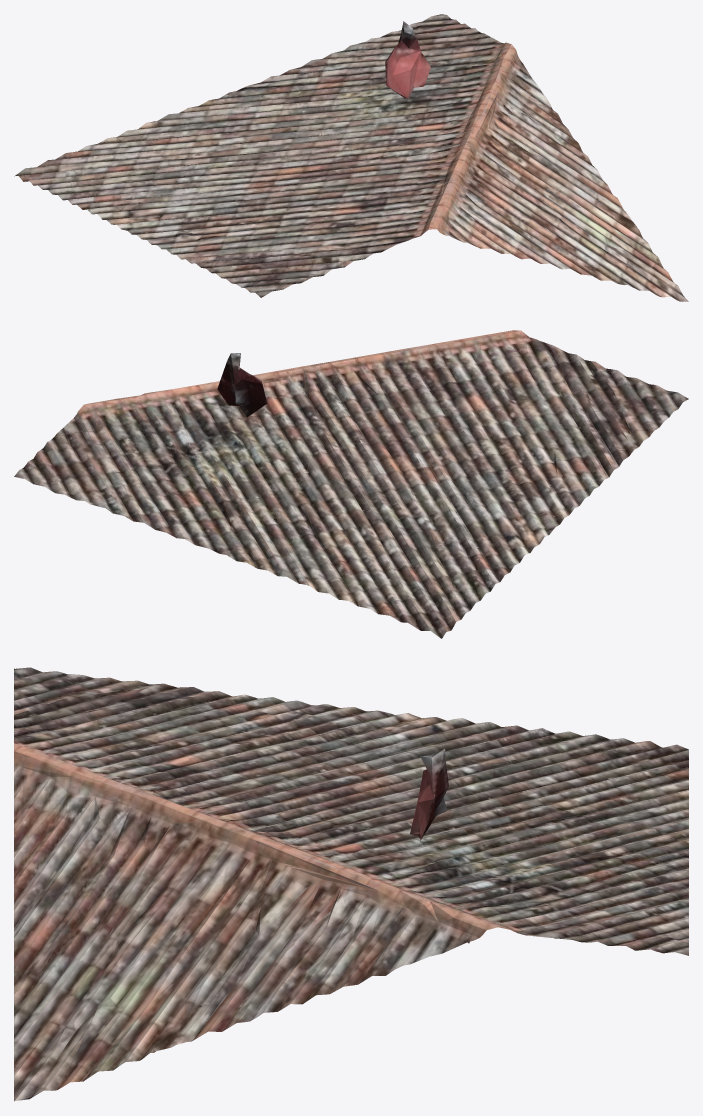
3 views of the same model, one above another, from view 1: azimuth 30°, elevation 25°; view 2: azimuth 150°, elevation 25°; view 3: azimuth 270°, elevation 25° (orthographic). The views are drawn at different scales.
Size of the model in its own units: 6.7 by 2.93 by 6.7.
Materials: 3 (3 with a texture image).
